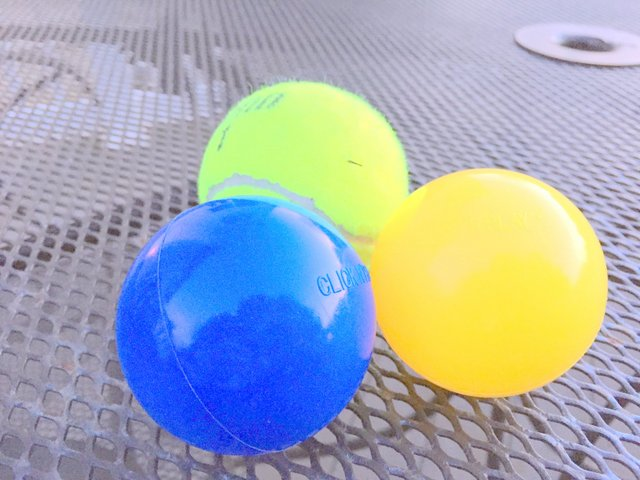Ball: (114, 198, 374, 454)
